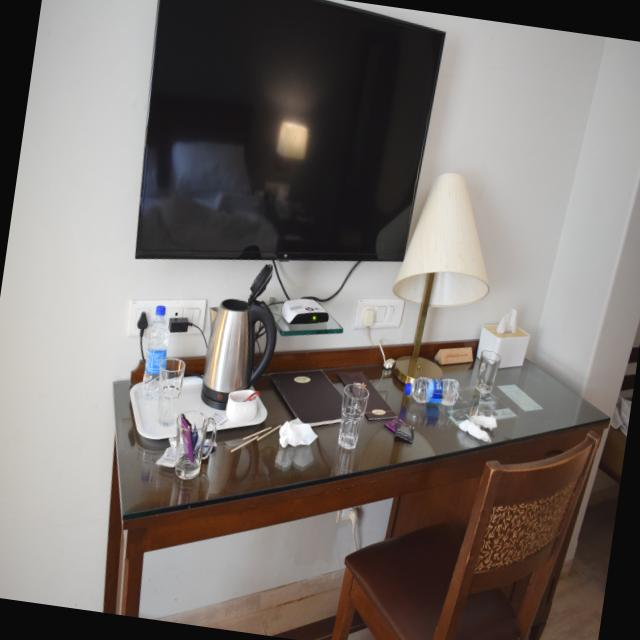mess: (68, 244, 640, 521)
